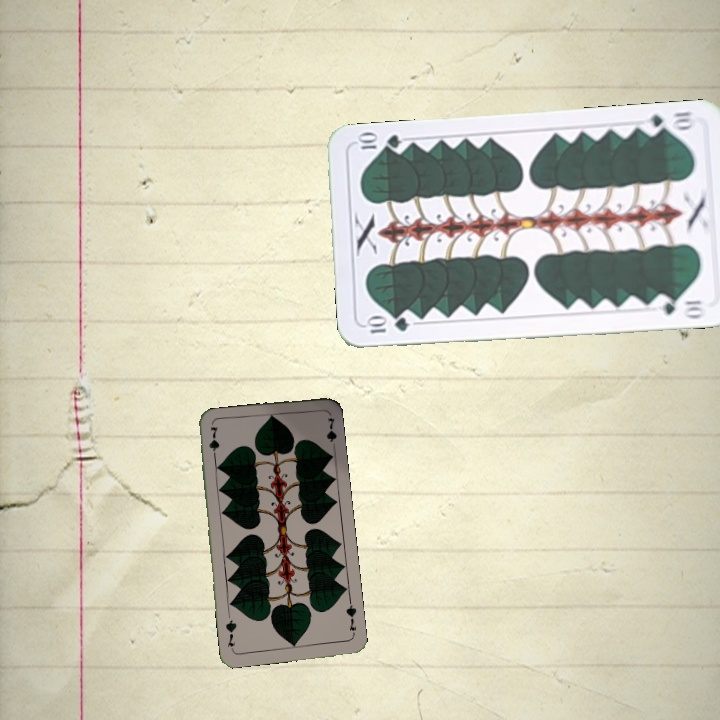G10: (638, 107, 698, 137), (362, 314, 411, 336)
G7: (342, 598, 359, 638), (205, 423, 220, 464)
